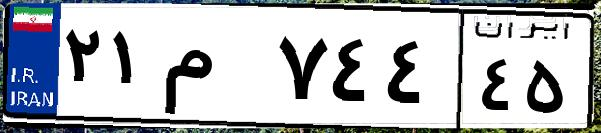1: (110, 28, 158, 98)
2: (57, 26, 110, 100)
4: (385, 28, 445, 110), (330, 28, 385, 110), (475, 38, 525, 113)
5: (525, 38, 570, 115)
7: (270, 28, 330, 110)
م: (158, 20, 270, 120)
